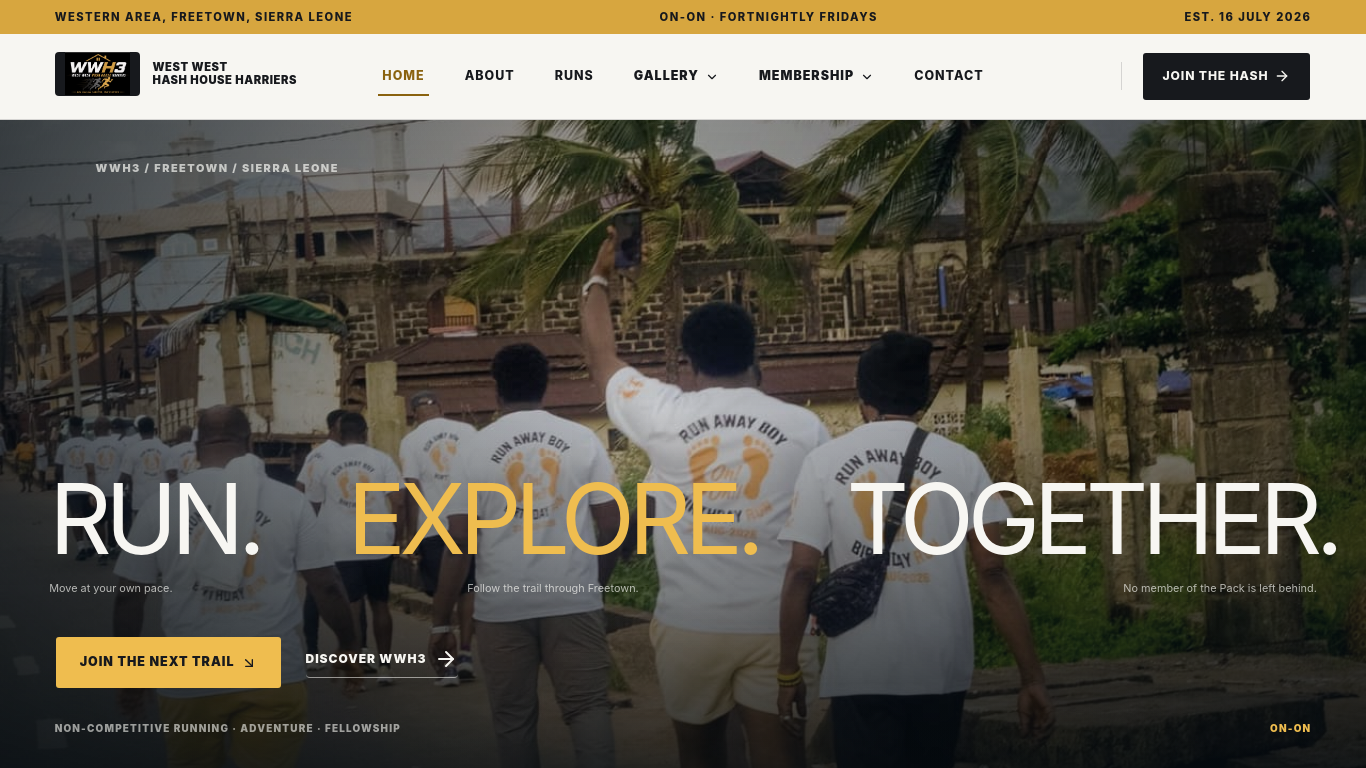
Test: Gallery dropdown › closes when a pointer is pressed outside it
Click the button "Gallery". click: (676, 76)
box: [630,59,723,94]
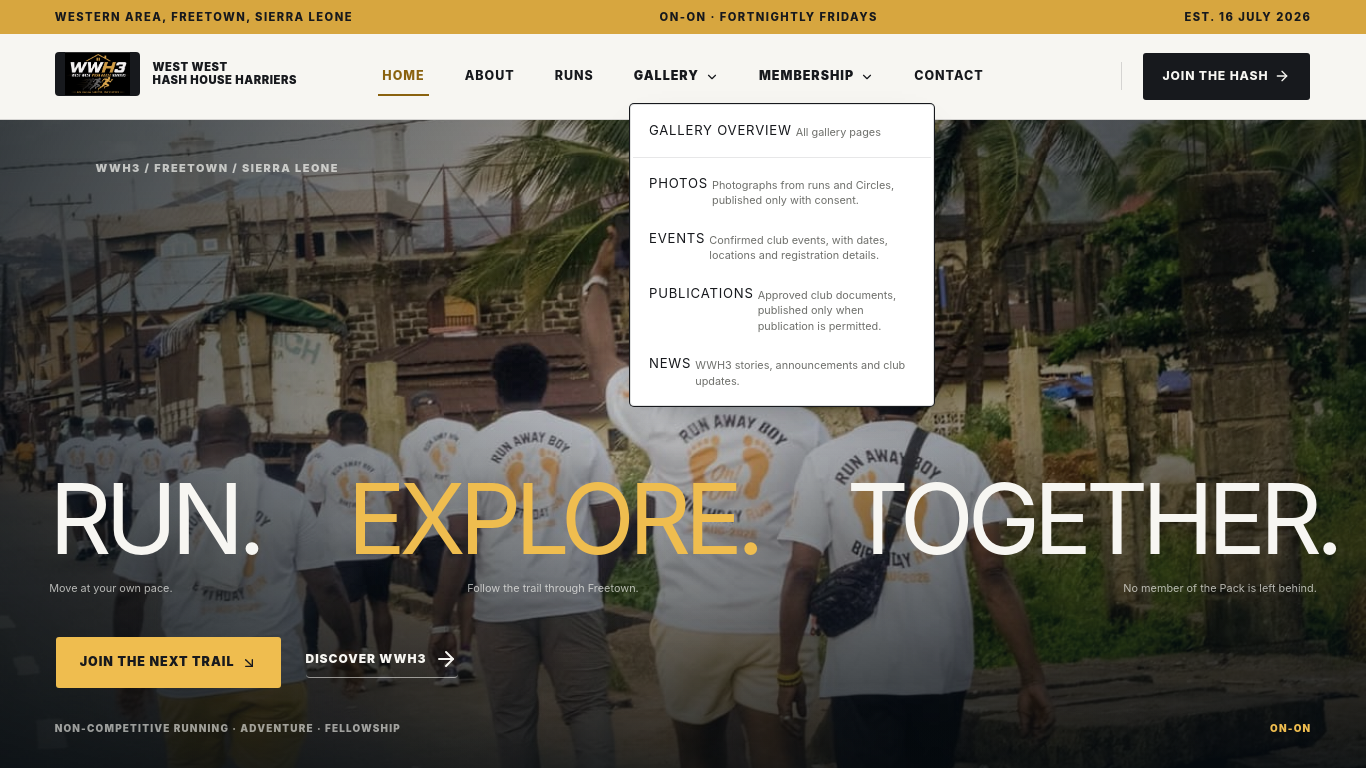
Click the header with test id "site-header". click: (683, 77)
box: [0,34,1365,120]
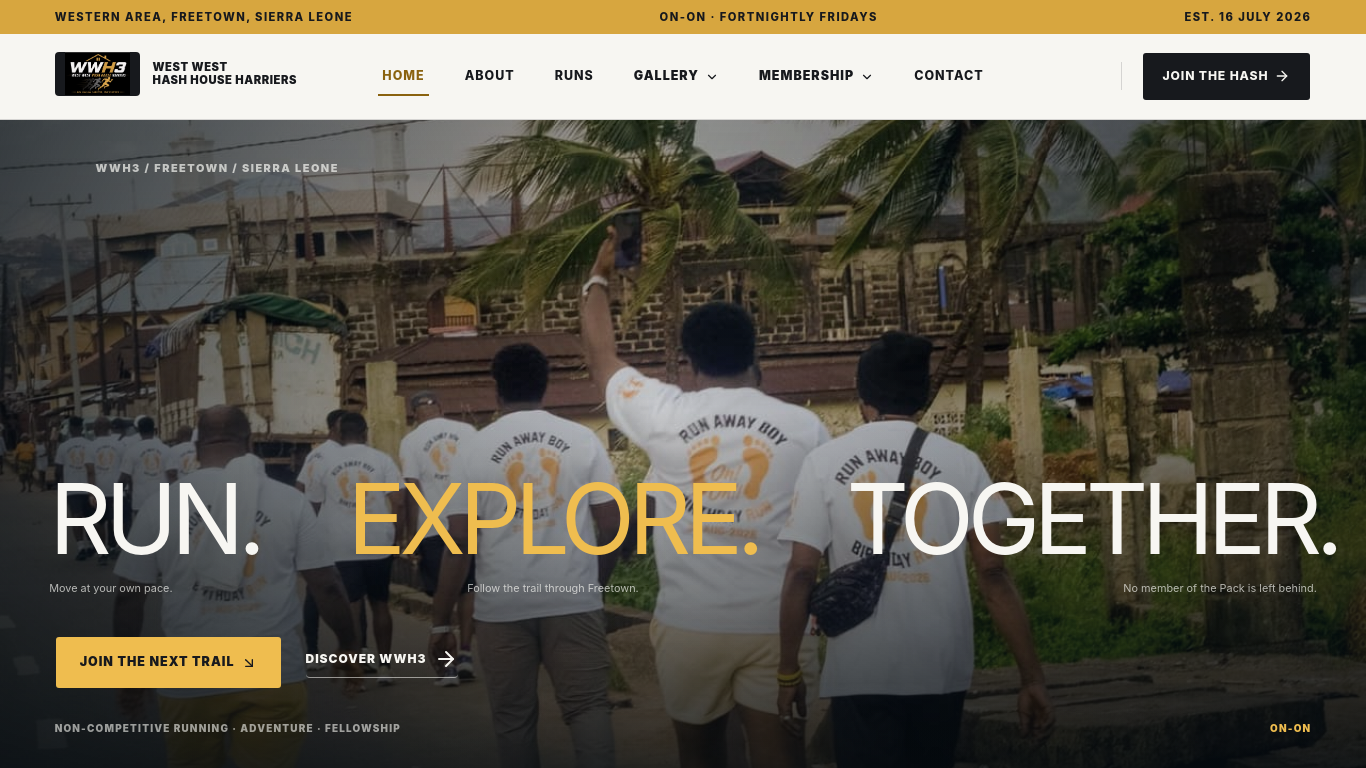
Result: the menu is gone
